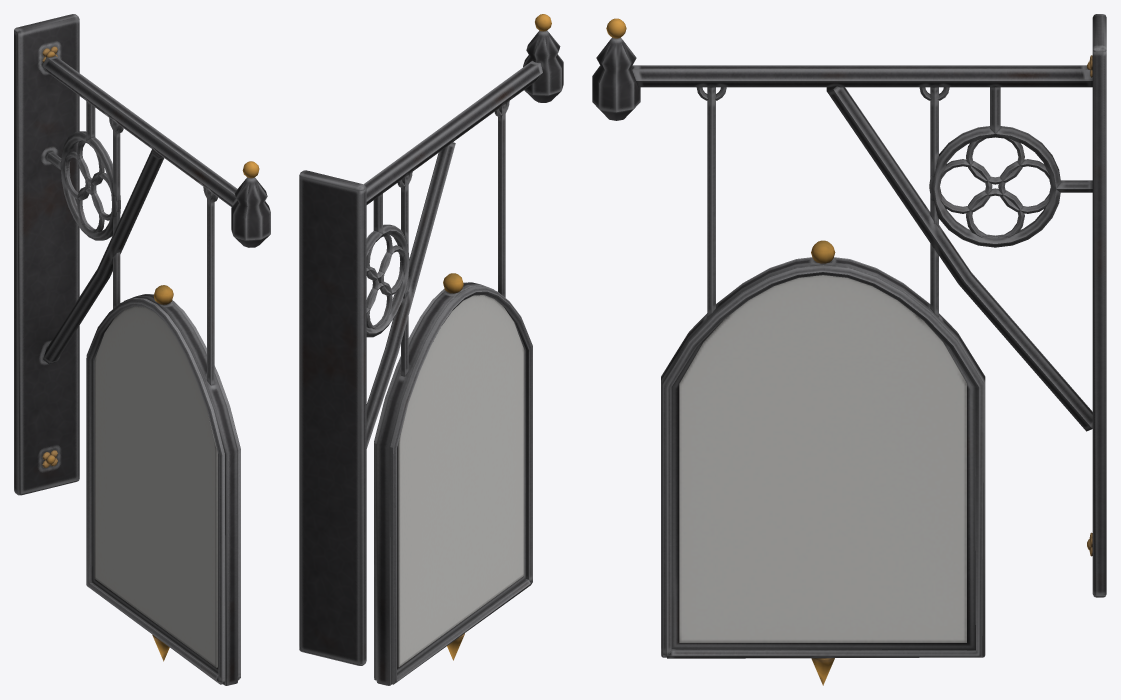
Rendered from BracketSign.fbx.
The picture shows the model from 3 angles, left to right: view 1: azimuth 30°, elevation 25°; view 2: azimuth 150°, elevation 25°; view 3: azimuth 270°, elevation 25°; orthographic projection. The views are drawn at different scales.
Visible parts, largest first — view 1: BracketSign_Main, BracketSign_Field; view 2: BracketSign_Main, BracketSign_Field; view 3: BracketSign_Field, BracketSign_Main.
Boxes of the visible parts, x1,y1,x2,y2 form: BracketSign_Main: (14, 14, 270, 685); BracketSign_Field: (94, 306, 217, 667); BracketSign_Main: (299, 14, 563, 685); BracketSign_Field: (397, 295, 524, 667); BracketSign_Field: (679, 275, 966, 642); BracketSign_Main: (592, 14, 1106, 685).
Bounding box in the file's own units: 42 × 363 × 254.
